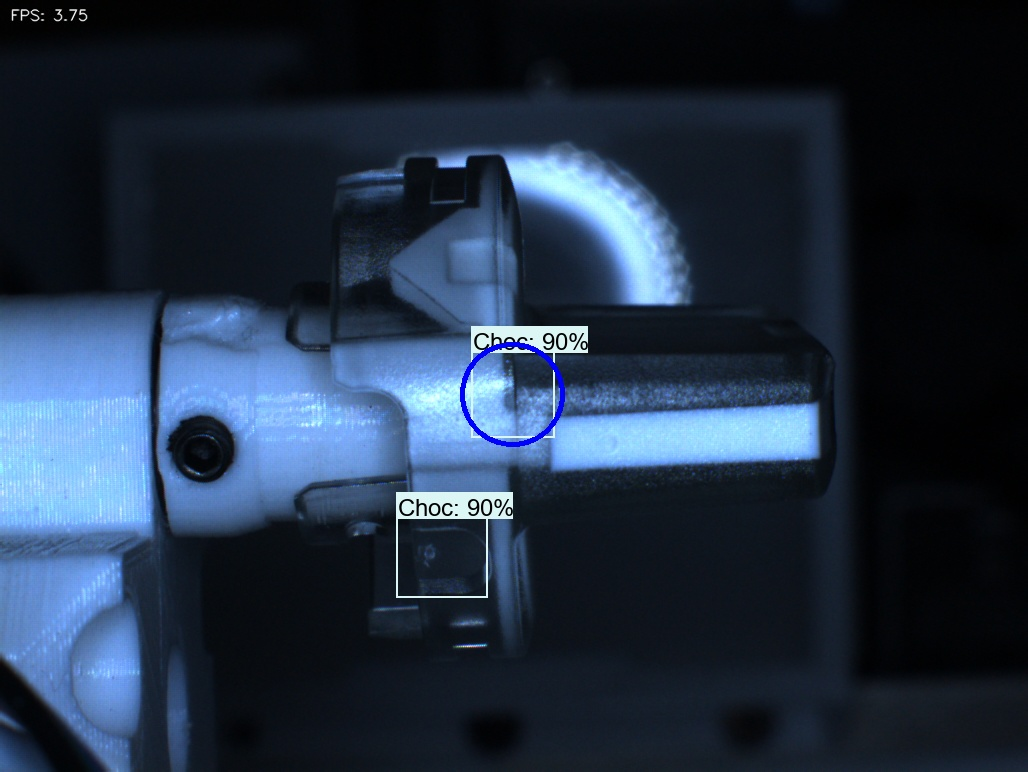DentOk: (365, 225, 435, 317)
